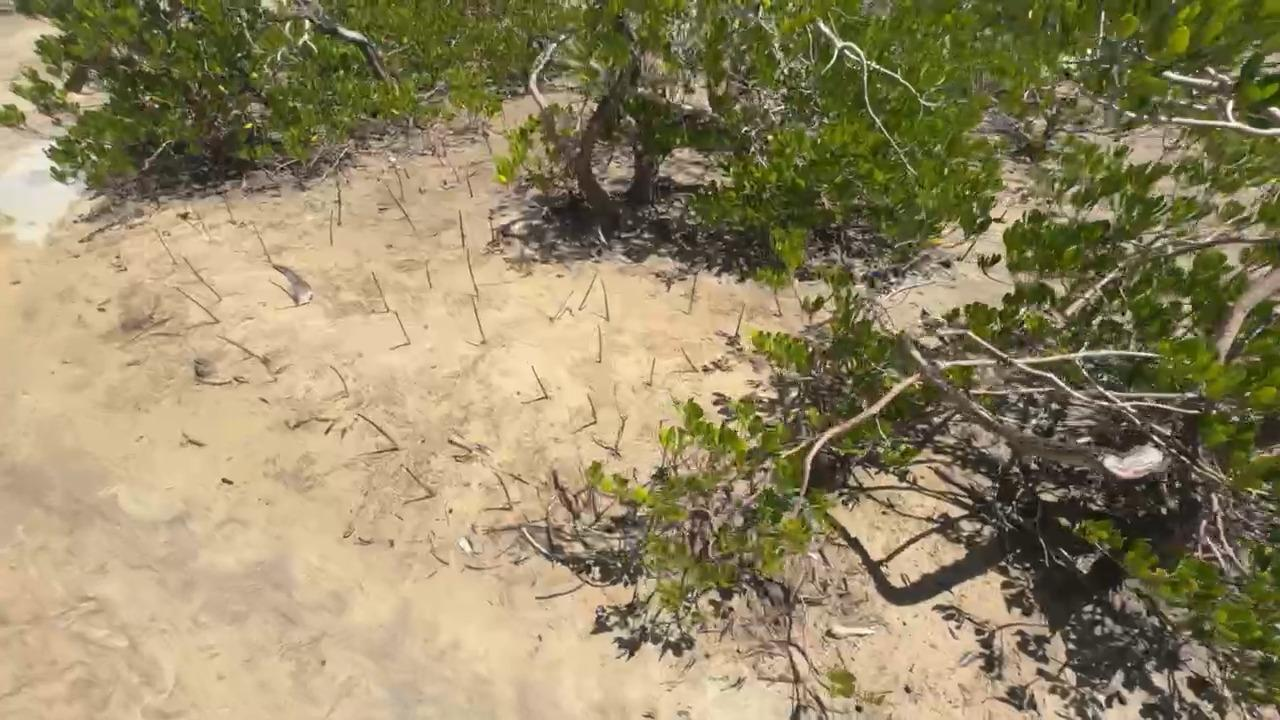Tree: (175, 286, 220, 323), (356, 412, 398, 445), (400, 462, 436, 496), (215, 334, 261, 358), (261, 354, 294, 382), (492, 471, 514, 510), (269, 279, 299, 306), (371, 271, 390, 313), (551, 290, 574, 321), (155, 230, 176, 263), (387, 187, 409, 218), (330, 364, 350, 398), (578, 273, 596, 310), (392, 310, 411, 345), (197, 274, 222, 300), (472, 298, 486, 343), (530, 364, 548, 398), (466, 248, 479, 295), (612, 415, 628, 453), (182, 255, 203, 280), (680, 346, 699, 372), (600, 277, 610, 321), (257, 236, 272, 263), (734, 304, 746, 337), (687, 275, 697, 313), (447, 439, 473, 453), (587, 393, 598, 423), (403, 210, 416, 233), (648, 357, 657, 386), (395, 170, 403, 200), (336, 180, 341, 226), (459, 210, 465, 248), (597, 324, 602, 362), (329, 210, 334, 246), (426, 259, 432, 288), (466, 174, 473, 198), (775, 297, 783, 316)
